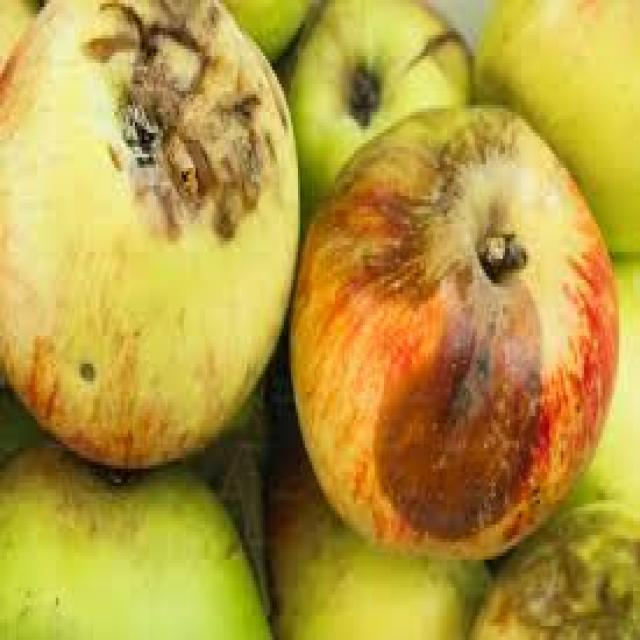Green Juicy Apple: (4, 443, 260, 640), (282, 500, 468, 640)
Rotten Apple: (292, 106, 614, 557), (3, 0, 298, 473), (299, 0, 467, 201), (480, 514, 640, 640)
